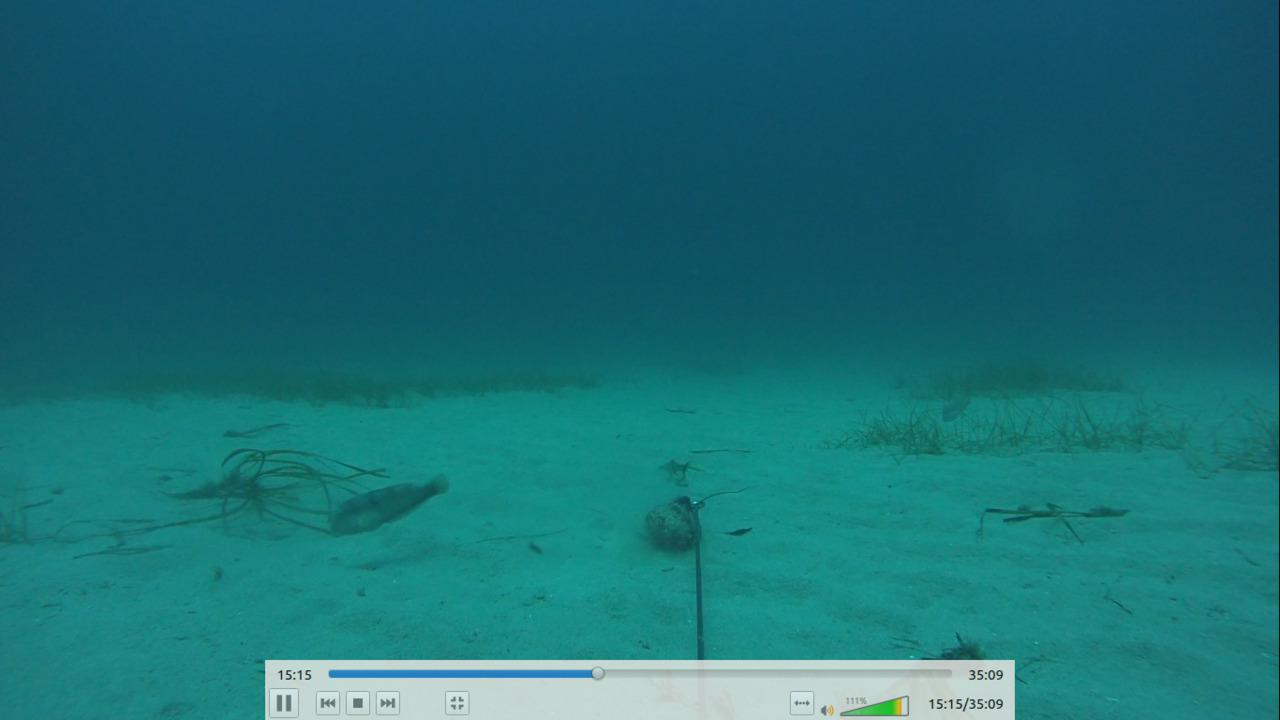raor: (326, 469, 452, 545)
